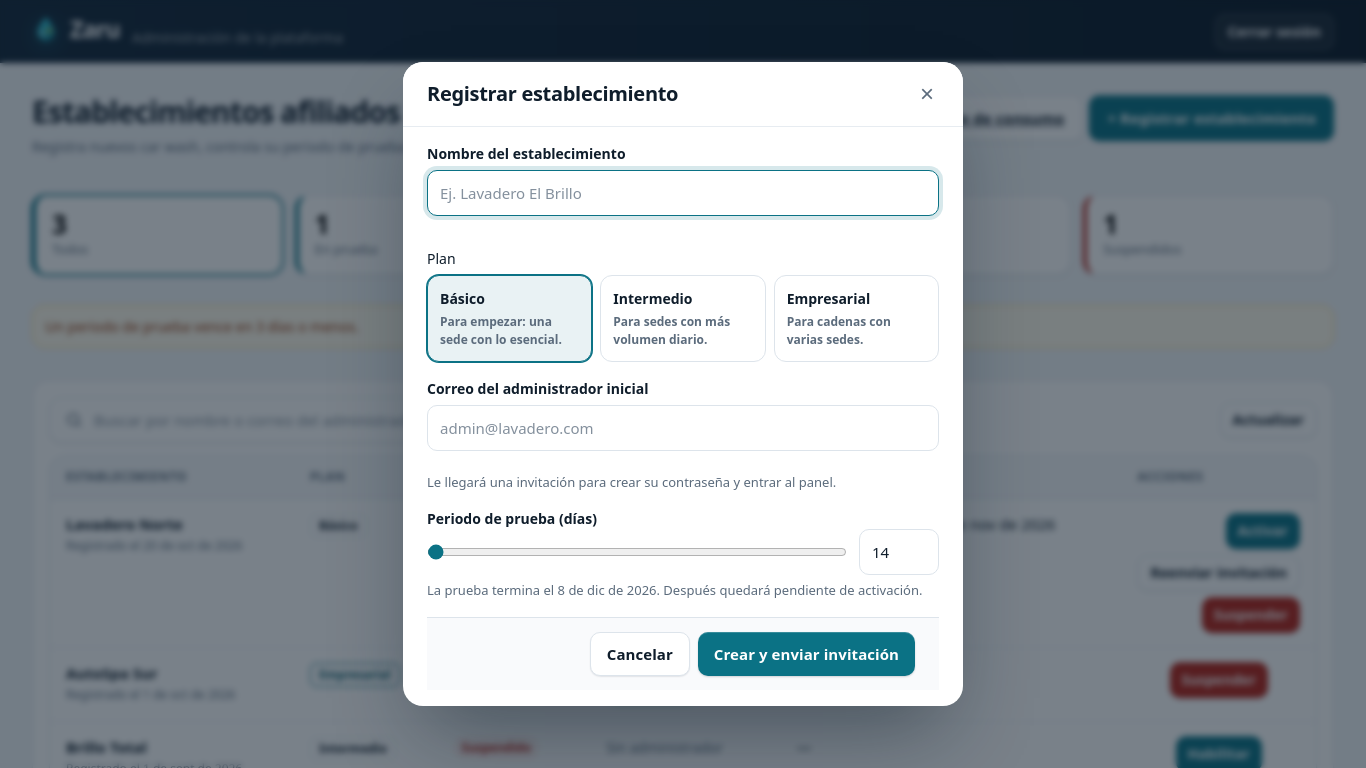
Test: HU-57 · panel de superadministración › CA1: valida el formulario antes de enviarlo y registra con plan y días de prueba
Earlier steps of the test are not shown.
Click the button "Crear y enviar invitación" at (806, 654), box [698,632,915,676]
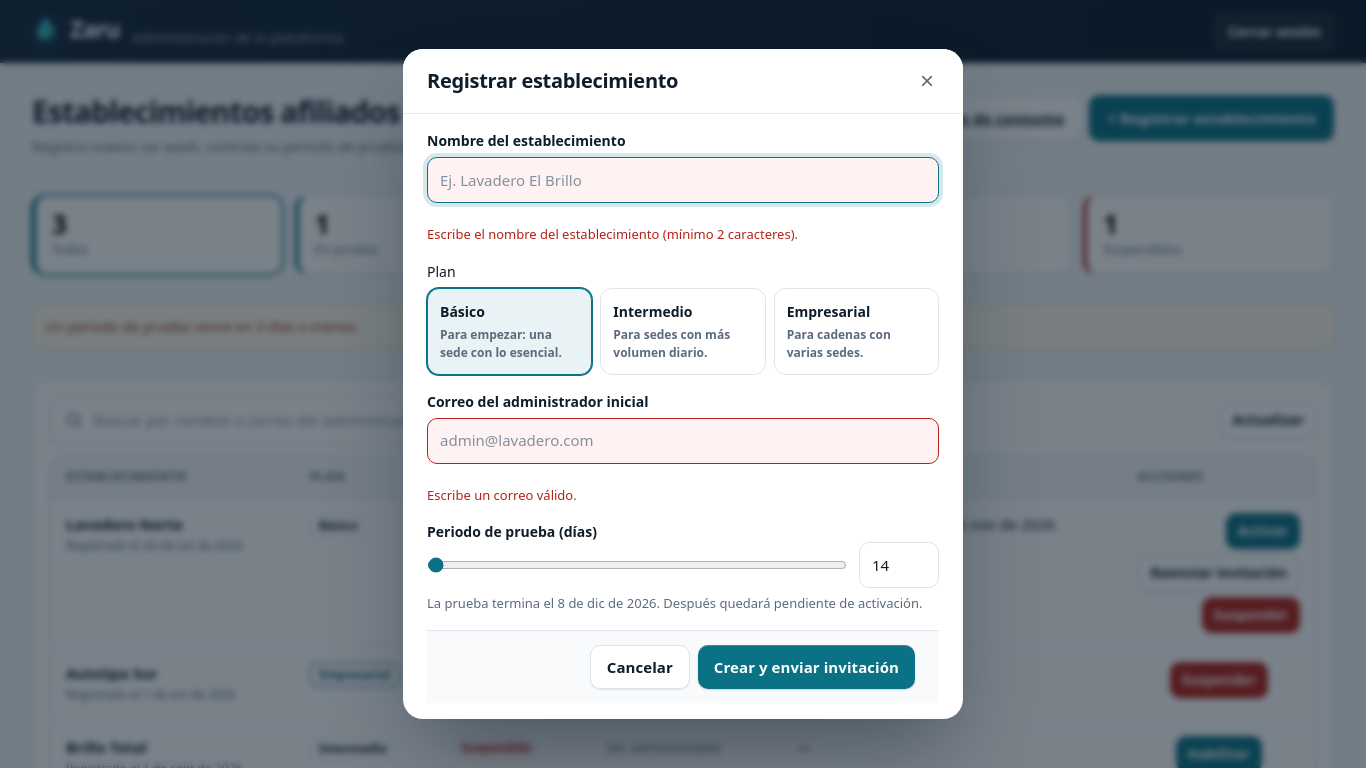
Result: the text "Escribe el nombre del establecimiento (mínimo 2 caracteres)." is shown at [427,225,798,243]
Type "Lavadero Nuevo" into the field labelled "Nombre del establecimiento" at (683, 180), box [427,157,939,203]
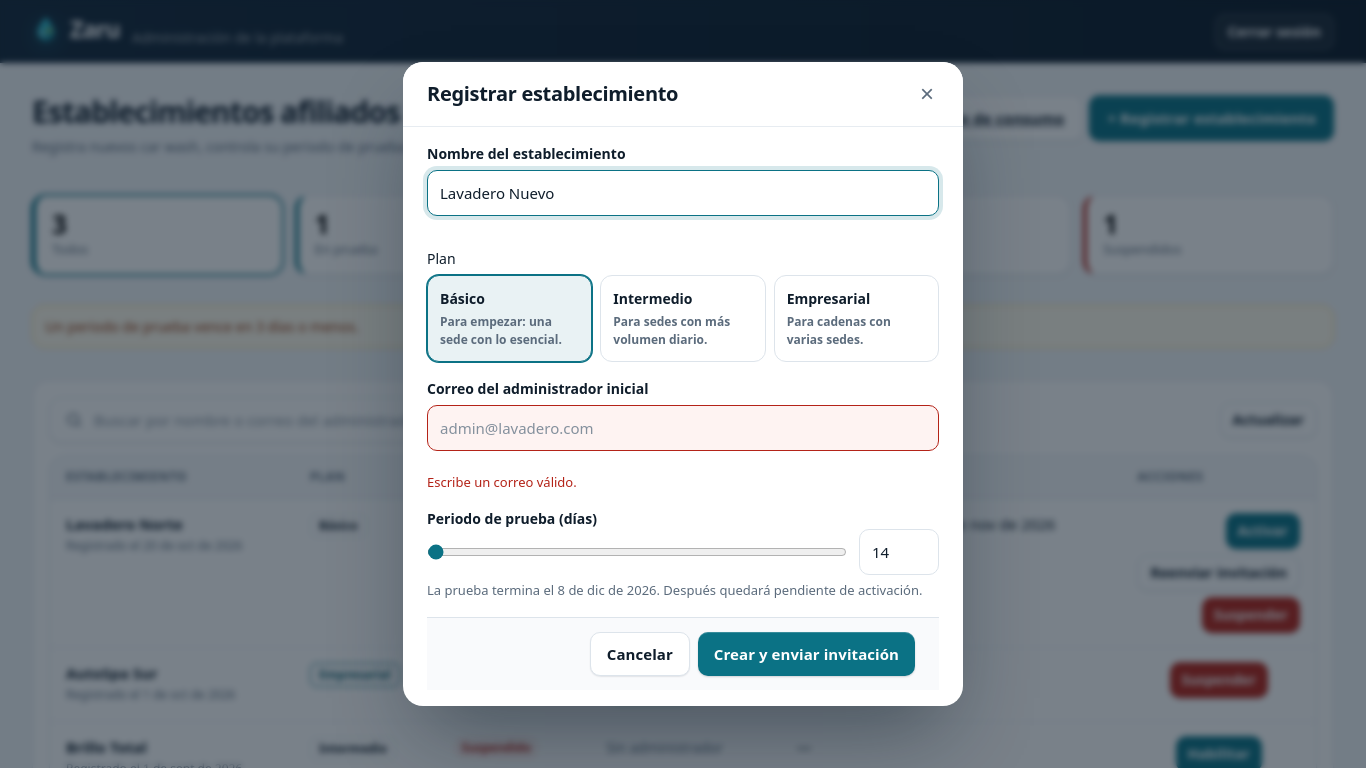
Click the radio button labelled "Empresarial Para cadenas con varias sedes." at (856, 318), box [774,275,939,362]
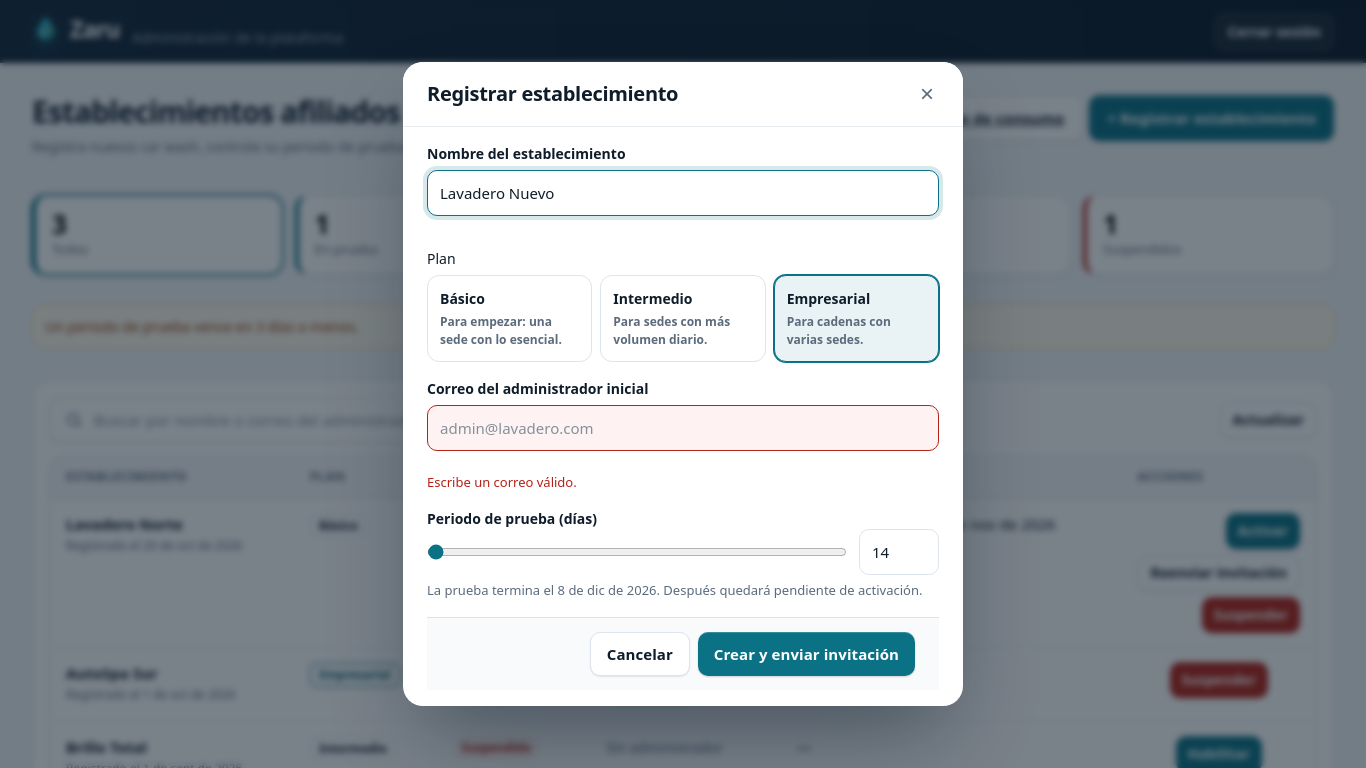
Type "nuevo@x.co" into the field labelled "Correo del administrador inicial" at (683, 428), box [427,405,939,451]
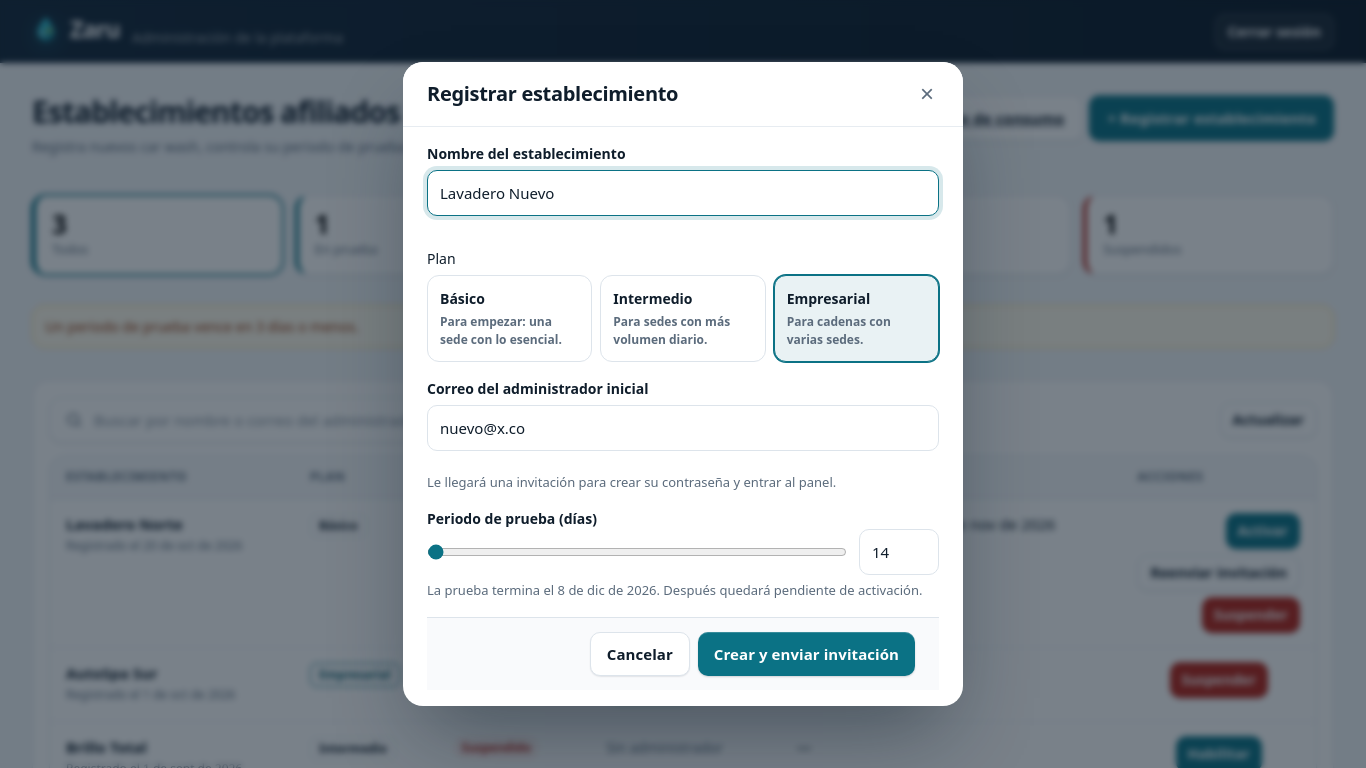
Replace the text in the number field named "Número de días de prueba" with "21" at (899, 552), box [859,529,939,575]
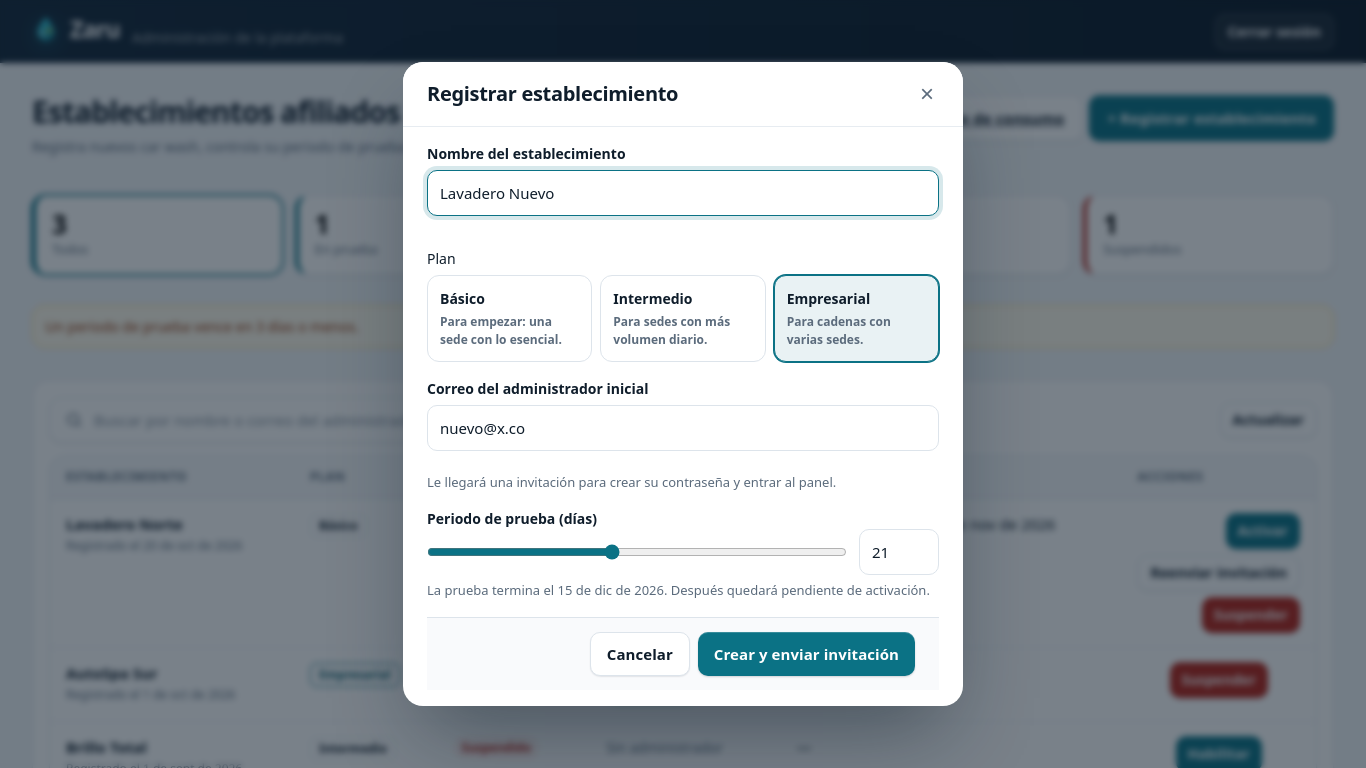
Result: the text "La prueba termina el" is shown at [427,581,930,599]
Click the button "Crear y enviar invitación" at (806, 654), box [698,632,915,676]
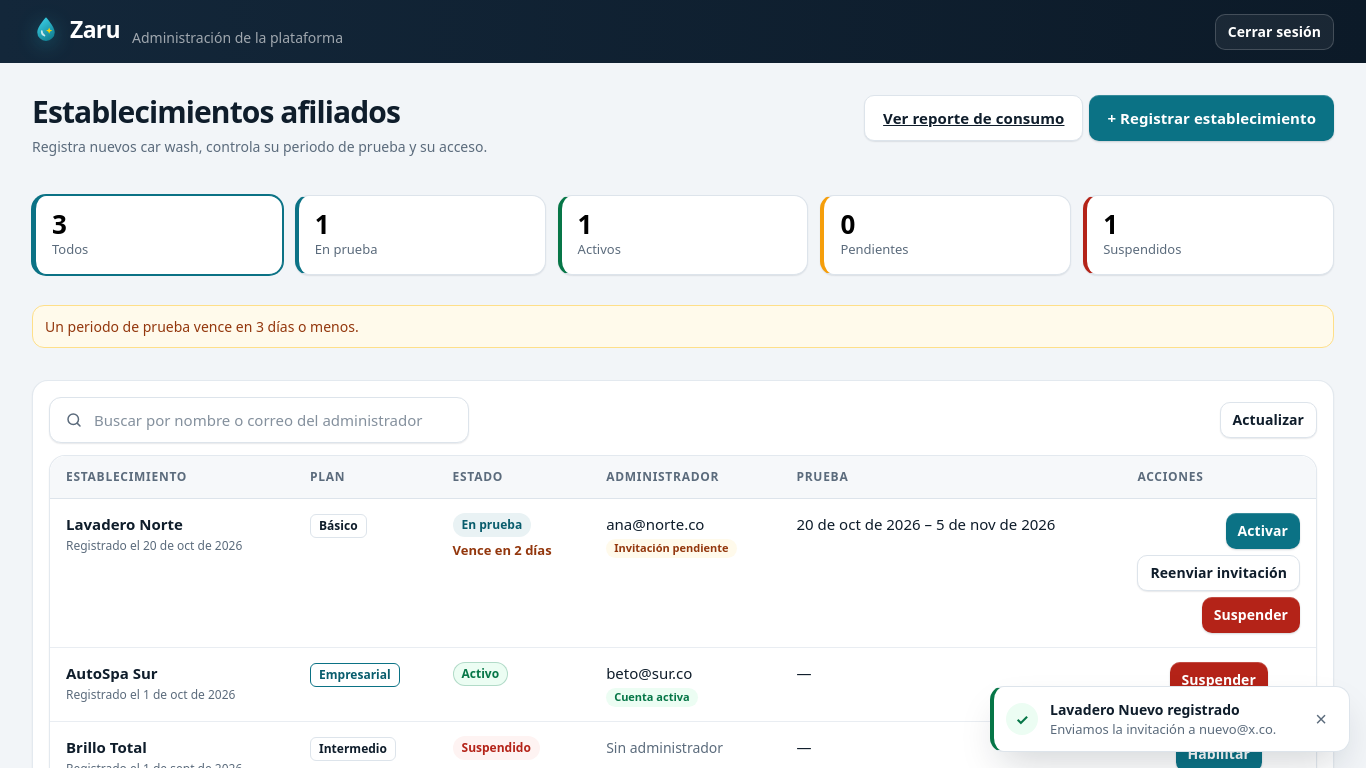
Result: the text "Lavadero Nuevo registrado" is shown at [1050,700,1240,718]
